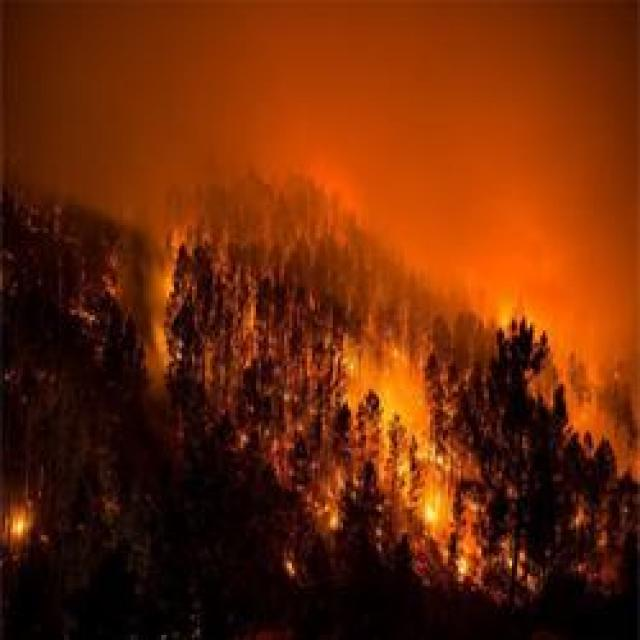fire: (331, 339, 442, 448), (488, 294, 545, 344), (3, 504, 36, 552), (413, 492, 451, 532), (447, 550, 480, 588)
